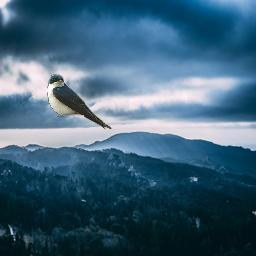Swallow: (47, 74, 112, 130)
